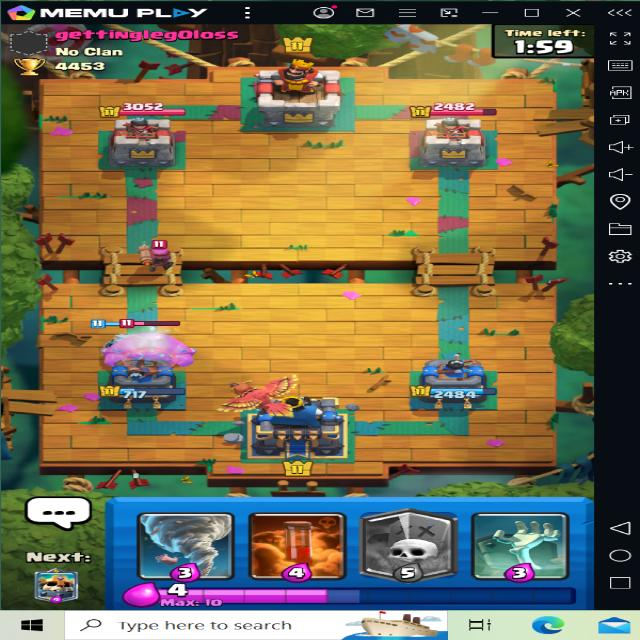electro-golem: (96, 318, 205, 376)
firecracker: (126, 230, 186, 270)
